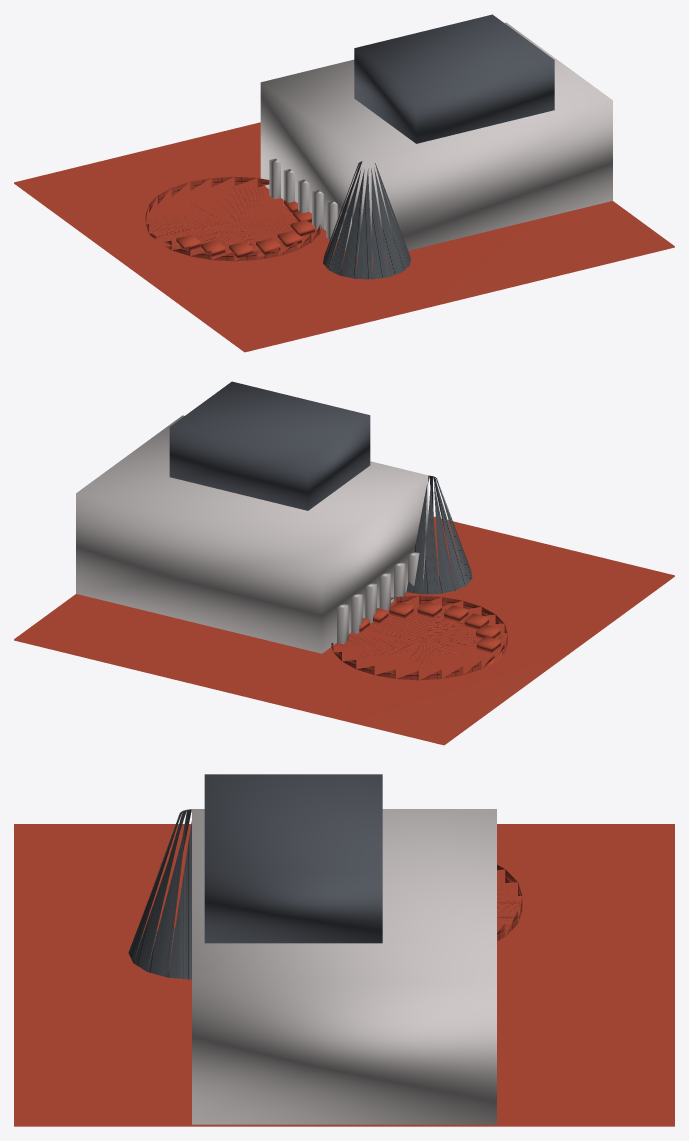
3 renders of one model, top to bottom at view 1: azimuth 30°, elevation 25°; view 2: azimuth 150°, elevation 25°; view 3: azimuth 270°, elevation 25°, orthographic. The views are drawn at different scales.
Parts seen in each view (by area): view 1: theater_simplified, ground_simplified, stage_simplified, tree_simplified; view 2: theater_simplified, ground_simplified, stage_simplified, tree_simplified; view 3: ground_simplified, theater_simplified, tree_simplified, stage_simplified.
Boxes of the visible parts, bbox=[...] form: theater_simplified: bbox=[260, 14, 612, 259]; ground_simplified: bbox=[14, 122, 674, 352]; stage_simplified: bbox=[145, 176, 321, 261]; tree_simplified: bbox=[323, 161, 410, 279]; theater_simplified: bbox=[76, 381, 428, 653]; ground_simplified: bbox=[14, 516, 674, 745]; stage_simplified: bbox=[331, 595, 507, 680]; tree_simplified: bbox=[406, 475, 472, 594]; ground_simplified: bbox=[14, 824, 674, 1126]; theater_simplified: bbox=[192, 774, 496, 1124]; tree_simplified: bbox=[128, 809, 191, 979]; stage_simplified: bbox=[497, 865, 522, 940].
Size of the model in its own units: 56 by 18.9 by 52.
3 materials, 3 textured.
